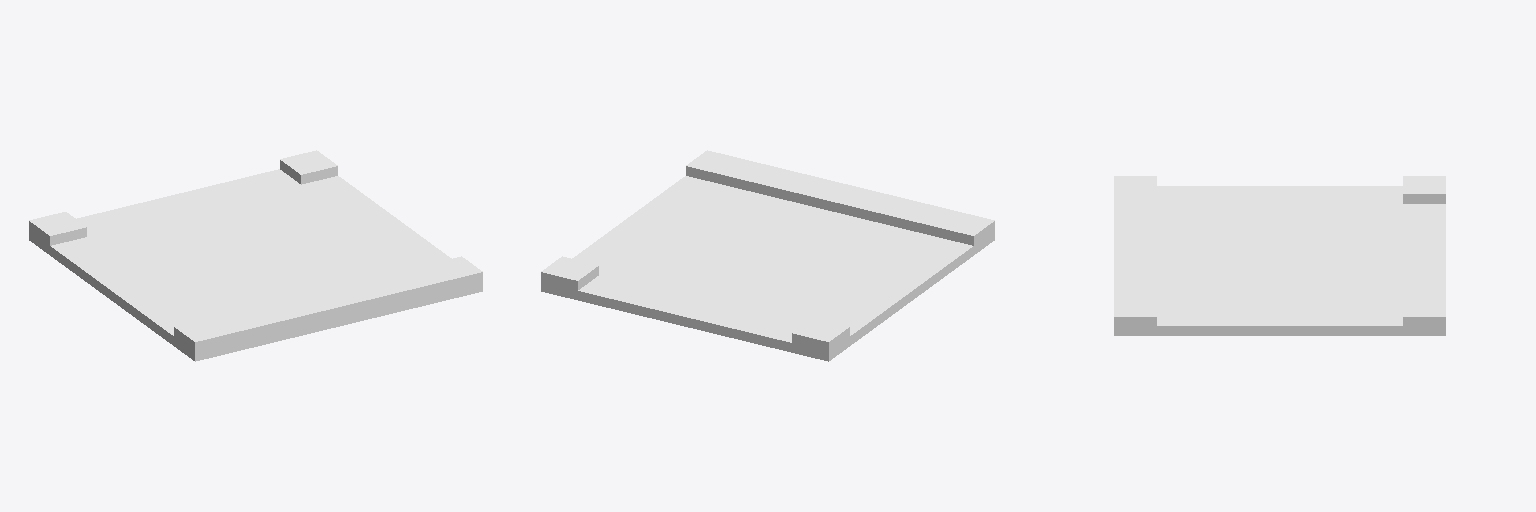
The model's file is TJunction.obj.
3 renders of one model, left to right at view 1: azimuth 30°, elevation 25°; view 2: azimuth 150°, elevation 25°; view 3: azimuth 270°, elevation 25°, orthographic.
Parts seen in each view (by area): view 1: TJunction; view 2: TJunction; view 3: TJunction.
Boxes of the visible parts, <box> form: TJunction: <box>29,150,482,361</box>; TJunction: <box>541,150,994,361</box>; TJunction: <box>1114,176,1445,335</box>.
Bounding box in the file's own units: 31 × 2 × 31.